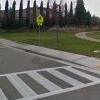Crosswalk: (1, 59, 86, 98)
